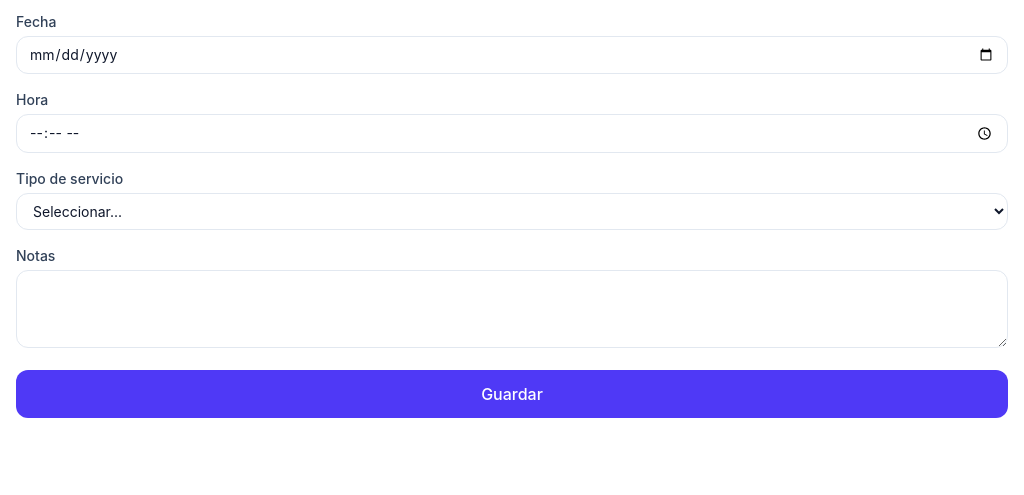
Test case: ServiceForm › shows validation errors for empty required fields
The image size is (1024, 495).
Step 1. Click the button "Guardar" → [512, 394], box [16, 370, 1008, 418]
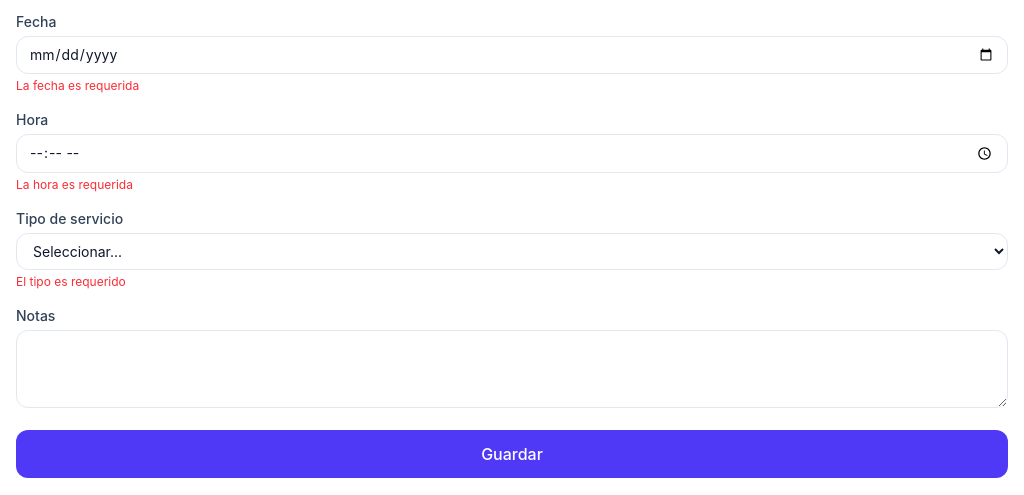
Expected: the text "La fecha es requerida" is shown, [16, 78, 139, 93]
